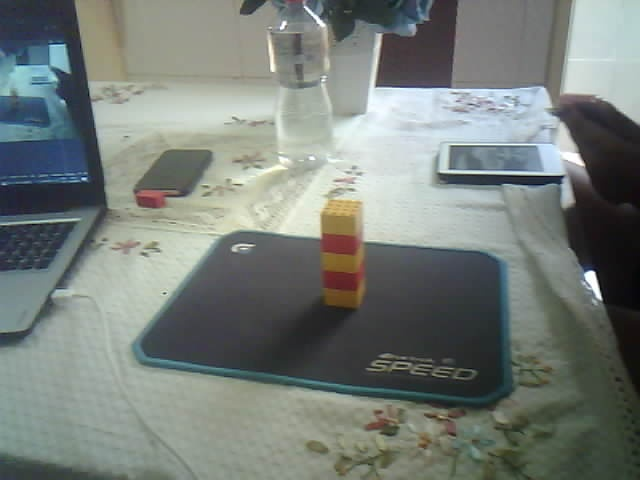lego: (319, 198, 366, 309), (135, 189, 166, 208)
